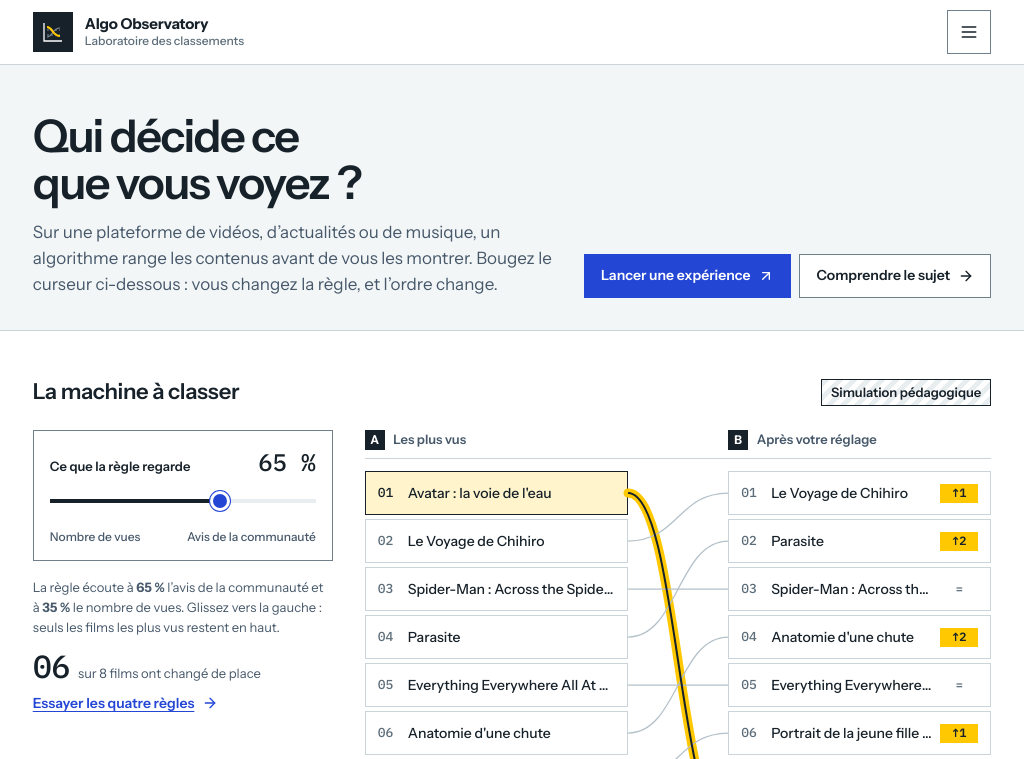
Test case: Algo Observatory navigation › conserve les six espaces et leur navigation sur petit écran
This screenshot has width=1024, height=759.
Click the button named "Ouvrir le menu" at (969,32), box [947, 10, 991, 54]
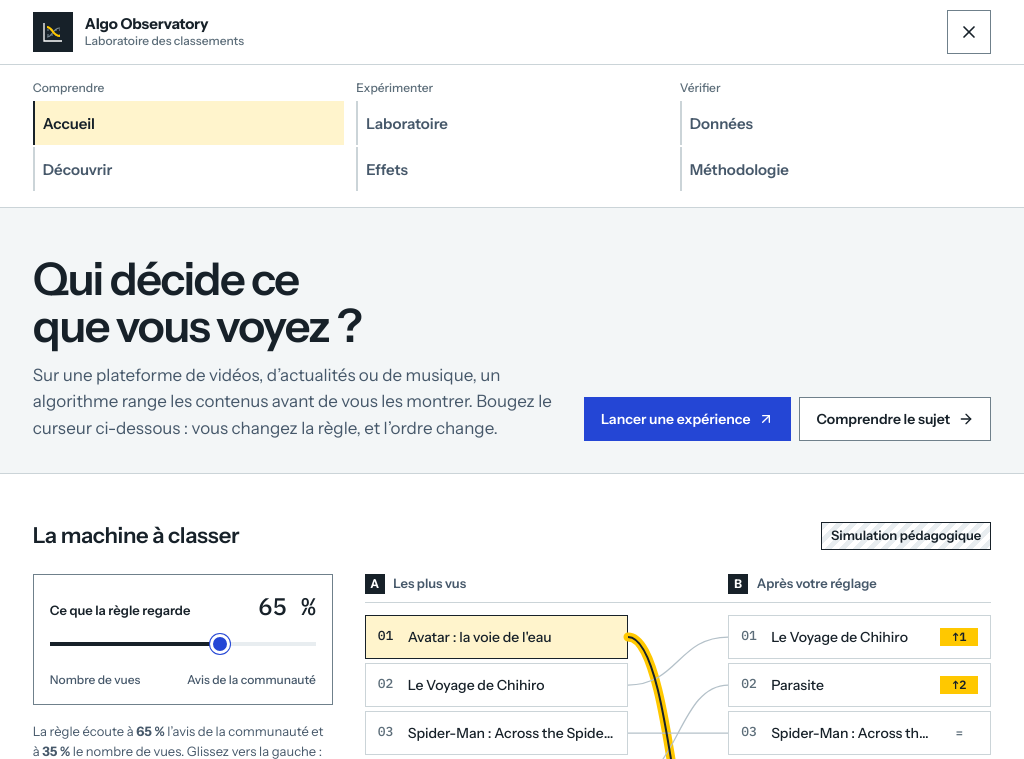
Check: the navigation bar named "Navigation mobile" is shown, box [0, 64, 1023, 207]
Click the button "Effets" at (387,169), box [356, 147, 668, 191]
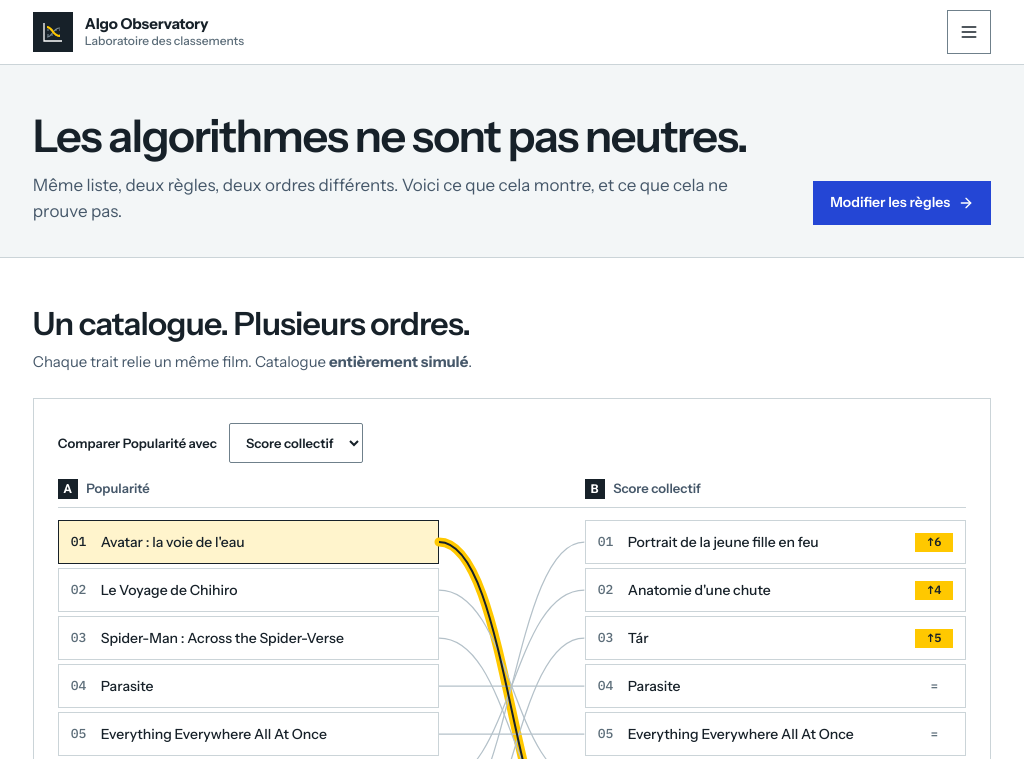
Check: the heading "Les algorithmes ne sont pas neutres." is shown, box [33, 113, 747, 160]
